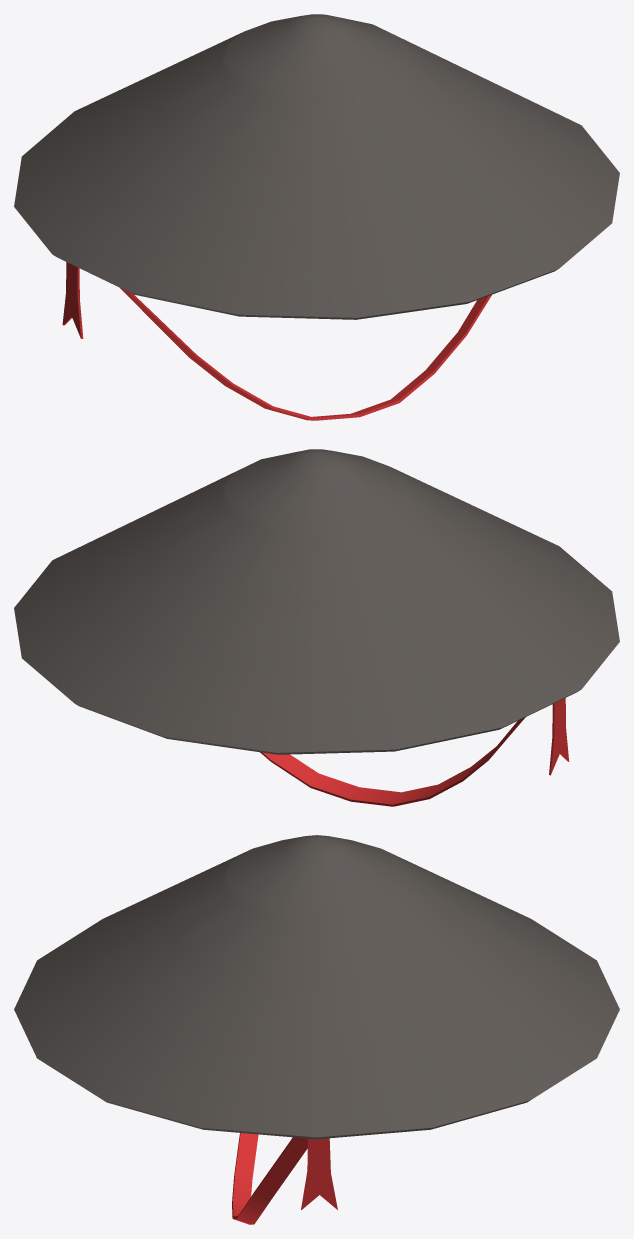
Rendered from Hat_69_02.fbx.
3 views of the same model, one above another, from view 1: azimuth 30°, elevation 25°; view 2: azimuth 150°, elevation 25°; view 3: azimuth 270°, elevation 25° (orthographic).
Visible parts, largest first — view 1: Hat_69_02; view 2: Hat_69_02; view 3: Hat_69_02.
Part boxes in pixels (x1=…): Hat_69_02: x1=14, y1=14, x2=619, y2=420; Hat_69_02: x1=14, y1=449, x2=619, y2=806; Hat_69_02: x1=14, y1=835, x2=619, y2=1224.
Bounding box in the file's own units: 60.21 × 40.67 × 60.21.
